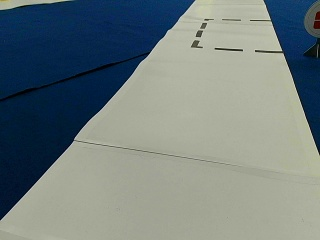company: (303, 1, 319, 36)
